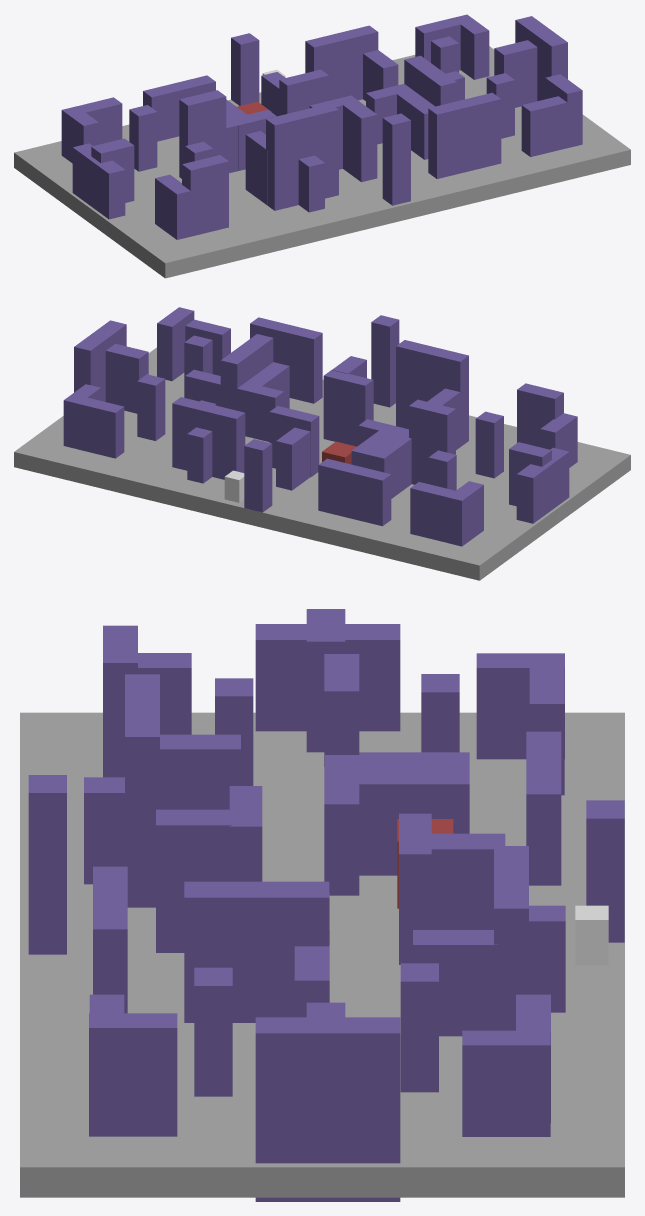
Rendered from LegionLevel.fbx.
3 views of the same model, one above another, from view 1: azimuth 30°, elevation 25°; view 2: azimuth 150°, elevation 25°; view 3: azimuth 270°, elevation 25° (orthographic). The views are drawn at different scales.
Visible parts, largest first — view 1: pCube3, pCube35, pCube68, pCube71, pCube27, pCube78, pCube52, pCube39, pCube82, pCube62, pCube80, pCube51 (+24 smaller); view 2: pCube3, pCube35, pCube71, pCube51, pCube68, pCube38, pCube78, pCube52, pCube72, pCube81, pCube80, pCube82 (+27 smaller); view 3: pCube3, pCube80, pCube66, pCube61, pCube78, pCube73, pCube56, pCube35, pCube39, pCube82, pCube69, pCube42 (+24 smaller).
Part boxes in pixels (left/top/right/bottom): pCube3: left=14, top=46, right=630, bottom=278; pCube35: left=266, top=103, right=338, bottom=210; pCube68: left=428, top=92, right=501, bottom=178; pCube71: left=305, top=25, right=378, bottom=100; pCube27: left=182, top=155, right=228, bottom=236; pCube78: left=72, top=143, right=125, bottom=219; pCube52: left=179, top=90, right=226, bottom=178; pCube39: left=342, top=101, right=377, bottom=182; pCube82: left=382, top=113, right=410, bottom=205; pCube62: left=521, top=96, right=567, bottom=156; pCube80: left=515, top=16, right=567, bottom=100; pCube51: left=143, top=75, right=215, bottom=141; pCube3: left=14, top=347, right=630, bottom=580; pCube35: left=396, top=340, right=468, bottom=446; pCube71: left=172, top=397, right=245, bottom=479; pCube51: left=318, top=458, right=391, bottom=526; pCube68: left=250, top=317, right=322, bottom=403; pCube38: left=323, top=370, right=373, bottom=446; pCube78: left=516, top=447, right=569, bottom=523; pCube52: left=409, top=399, right=455, bottom=484; pCube72: left=77, top=397, right=124, bottom=458; pCube81: left=105, top=343, right=148, bottom=413; pCube80: left=74, top=320, right=126, bottom=401; pCube82: left=371, top=315, right=399, bottom=407; pCube3: left=20, top=712, right=624, bottom=1197; pCube80: left=255, top=1017, right=400, bottom=1201; pCube66: left=184, top=881, right=329, bottom=1022; pCube61: left=89, top=1013, right=177, bottom=1136; pCube78: left=255, top=624, right=400, bottom=731; pCube73: left=462, top=1030, right=550, bottom=1136; pCube56: left=325, top=768, right=469, bottom=875; pCube35: left=125, top=674, right=159, bottom=907; pCube39: left=156, top=809, right=231, bottom=952; pCube82: left=28, top=775, right=66, bottom=954; pCube69: left=413, top=930, right=498, bottom=1036; pCube42: left=476, top=653, right=564, bottom=759.
Size of the model in its own units: 32 by 7.14 by 18.
